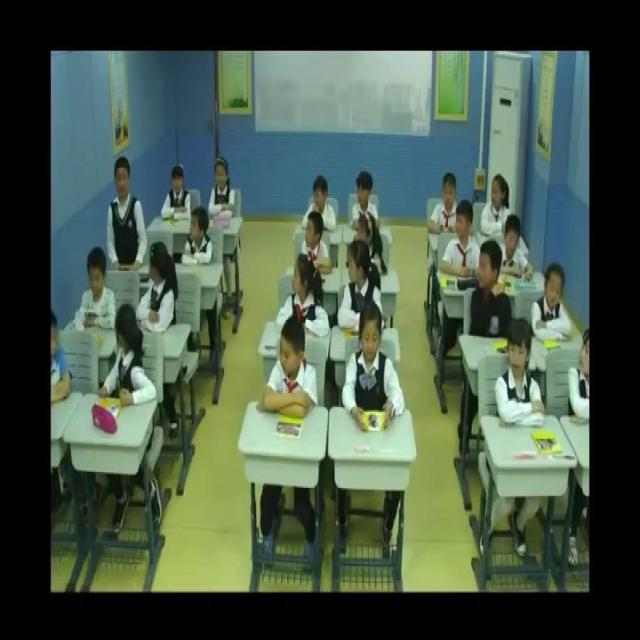distracted: (100, 301, 158, 411), (274, 250, 329, 341), (336, 238, 382, 336), (471, 241, 515, 340), (134, 242, 180, 336), (440, 200, 483, 282), (567, 326, 591, 422), (354, 212, 386, 278), (181, 208, 214, 268), (302, 209, 332, 275), (349, 170, 380, 233), (482, 174, 514, 235), (300, 178, 334, 232)
focused: (342, 305, 406, 433), (259, 316, 322, 425), (496, 316, 546, 432), (108, 152, 147, 278), (73, 247, 118, 334), (531, 262, 573, 348), (424, 172, 466, 236), (501, 211, 535, 288), (208, 154, 238, 218), (161, 164, 192, 222)
